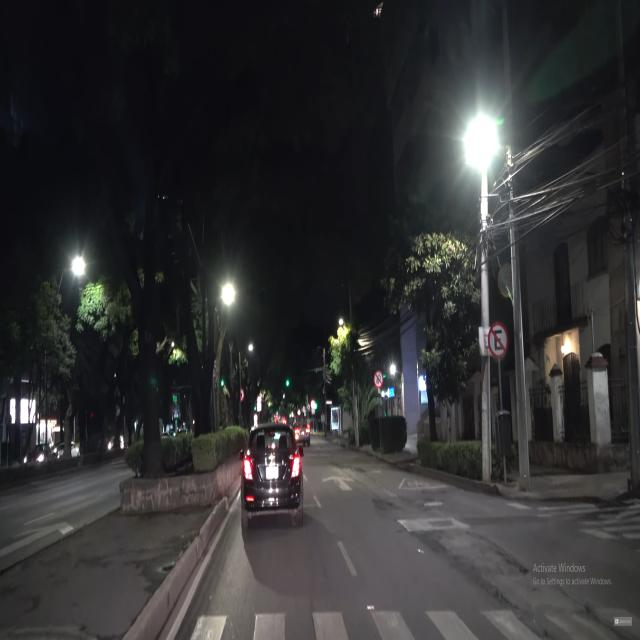headlights: (21, 450, 49, 470)
